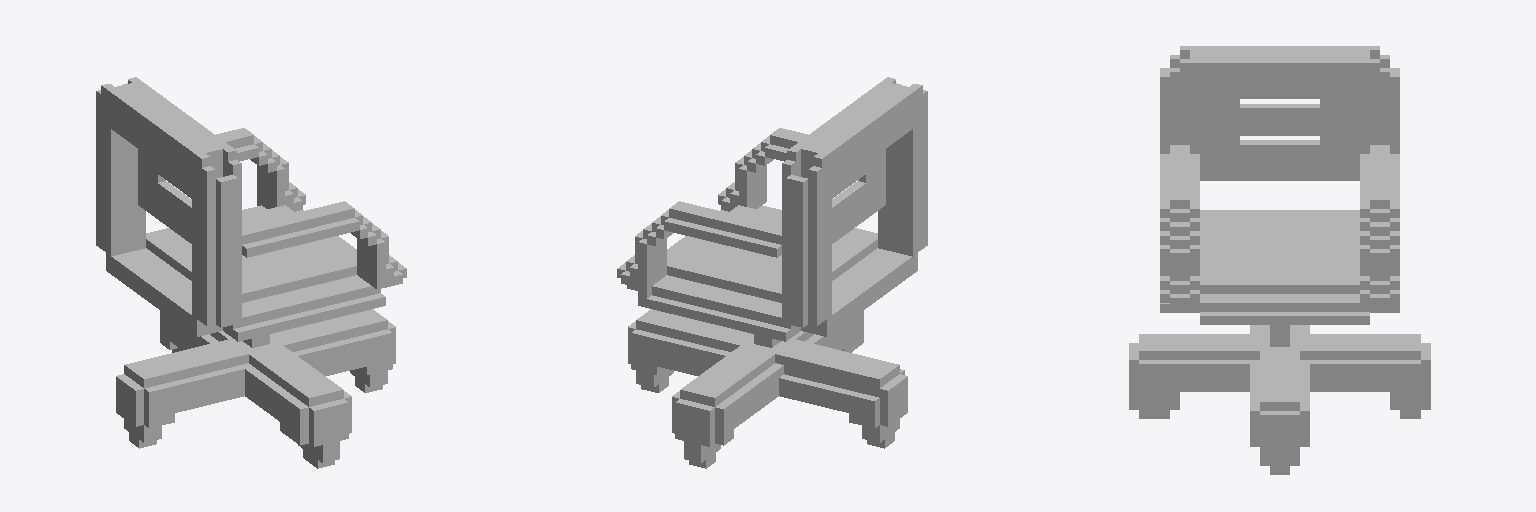
The model's file is office chair.obj.
The picture shows the model from 3 angles: view 1: azimuth 30°, elevation 25°; view 2: azimuth 150°, elevation 25°; view 3: azimuth 270°, elevation 25°; orthographic projection.
Parts seen in each view (by area): view 1: office chair; view 2: office chair; view 3: office chair.
Boxes of the visible parts, box(x1,y1,x2,y2) form: office chair: box(96, 77, 406, 468); office chair: box(617, 77, 927, 468); office chair: box(1129, 46, 1430, 474).
Bounding box in the file's own units: 30 × 35 × 30.